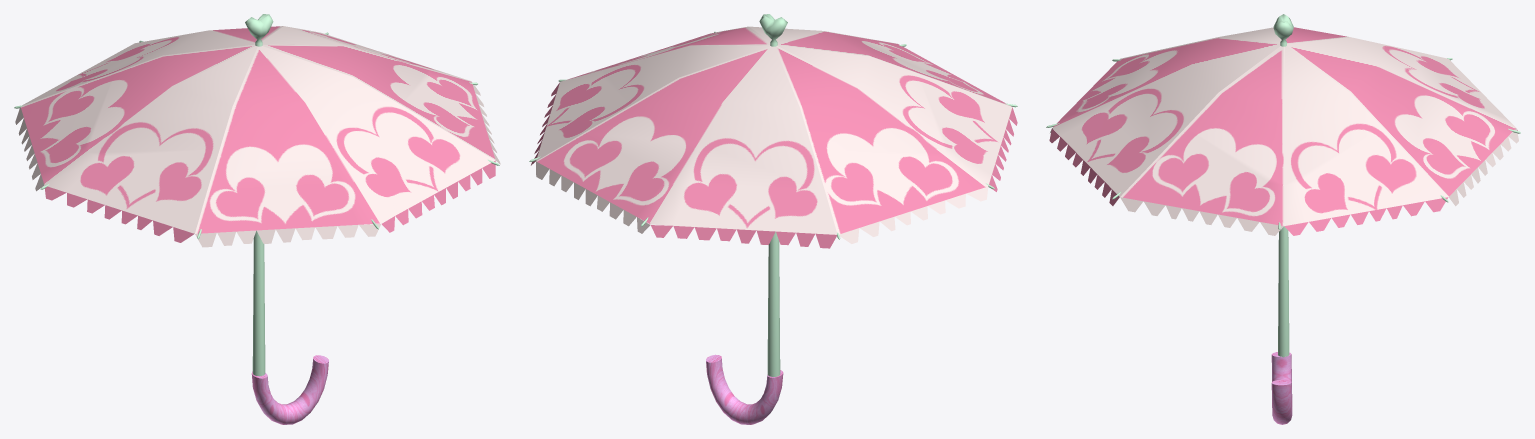
Rendered from Umbrella.FBX.
3 views of the same model, side by side, from view 1: azimuth 30°, elevation 25°; view 2: azimuth 150°, elevation 25°; view 3: azimuth 270°, elevation 25° (orthographic). The views are drawn at different scales.
Visible parts, largest first — view 1: Umbrelly, Fransen, Stangen, Torus001; view 2: Umbrelly, Fransen, Stangen, Torus001; view 3: Umbrelly, Fransen, Stangen, Torus001.
Part boxes in pixels (x1,y1,x2,y2): Umbrelly: (20,26,495,233); Fransen: (15,82,500,247); Stangen: (14,14,499,376); Torus001: (251,355,328,424); Umbrelly: (536,26,1012,234); Fransen: (531,82,1017,248); Stangen: (529,14,1017,376); Torus001: (706,354,783,424); Umbrelly: (1052,27,1515,226); Fransen: (1049,128,1518,235); Stangen: (1046,14,1520,357); Torus001: (1271,352,1292,424).
Bounding box in the file's own units: 40.89 × 37.04 × 40.87.
